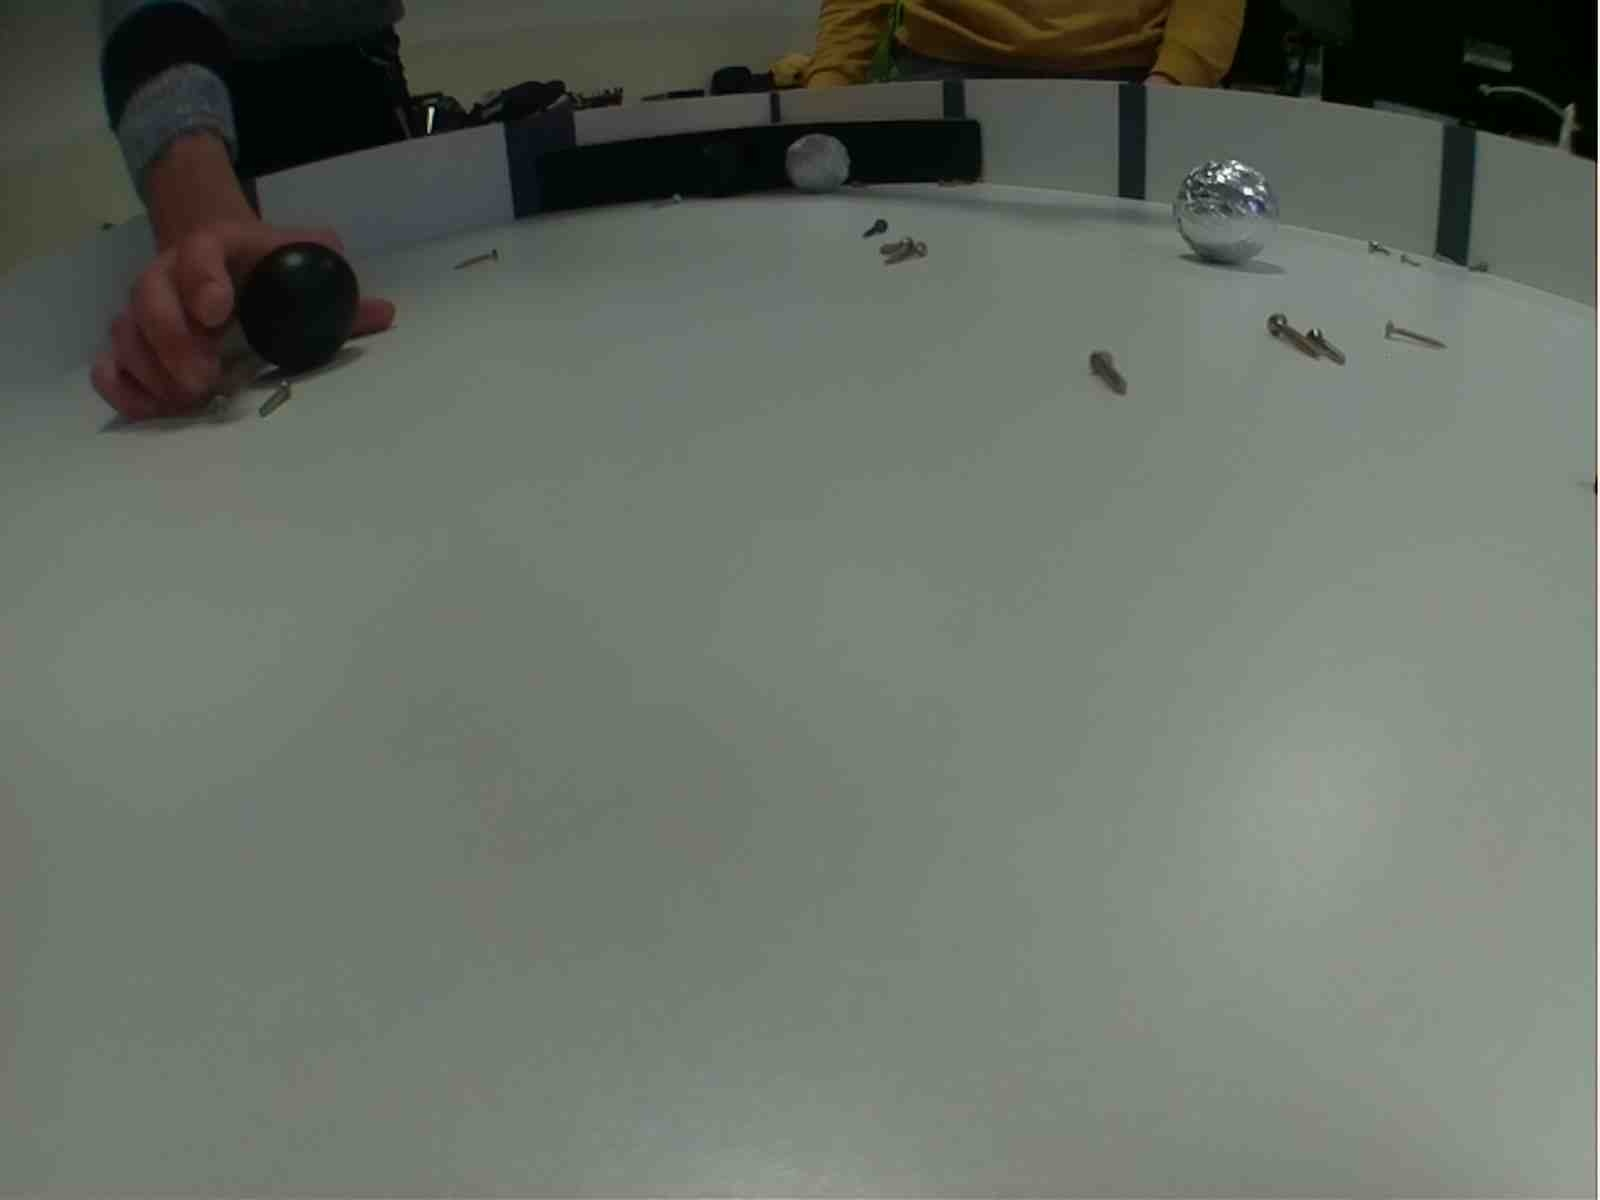bianca: (1170, 158, 1277, 268), (787, 134, 850, 192)
nera: (239, 241, 364, 369)
